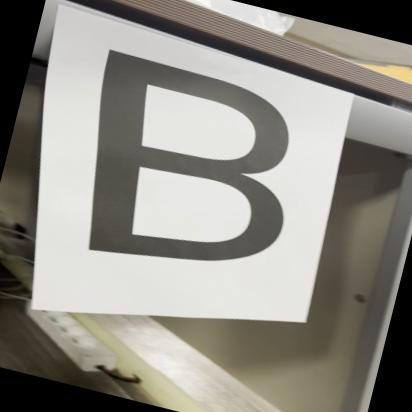seat: (44, 33, 314, 298)
